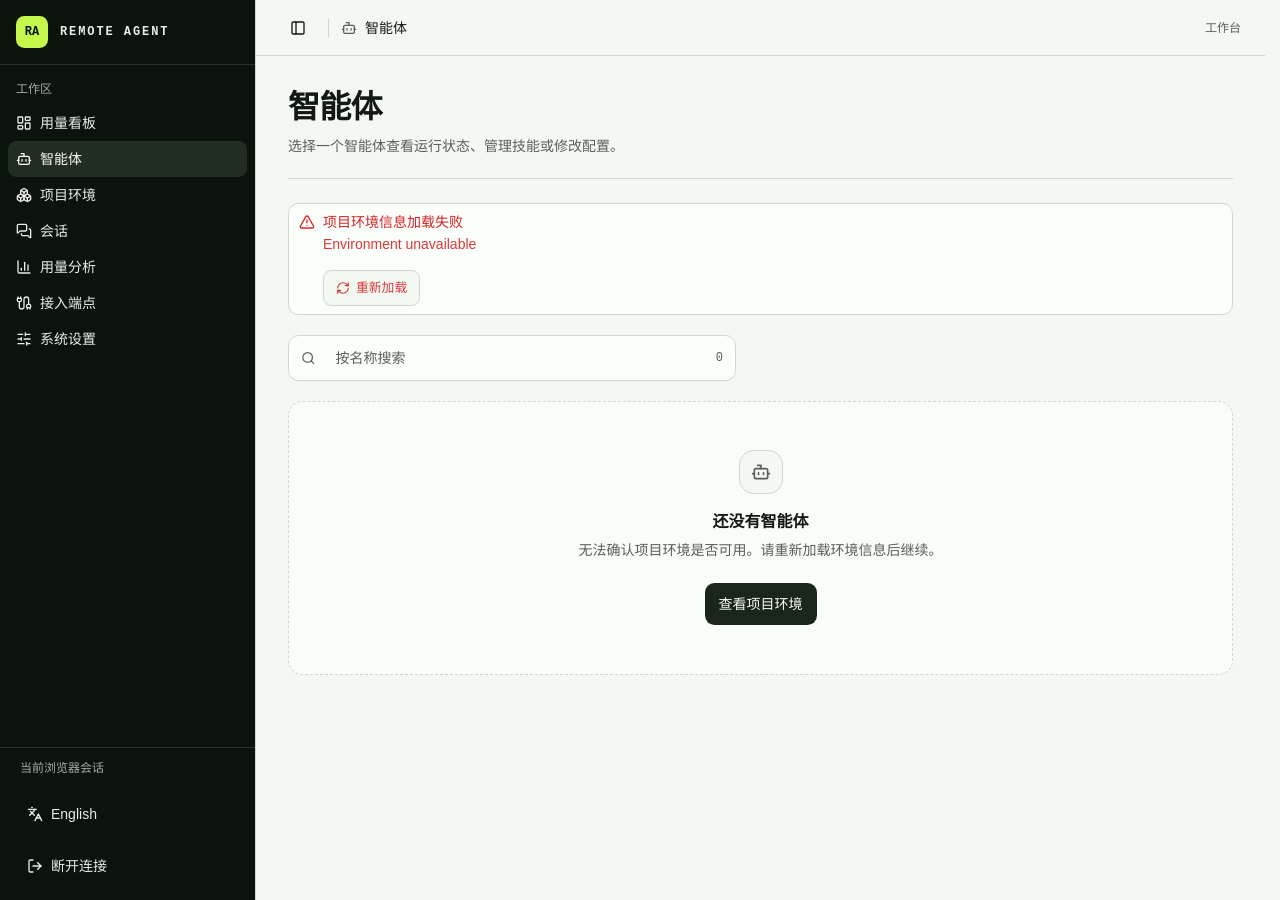
it: does not hide Agents when only their onboarding environment check fails
Expected: the heading "还没有智能体" is shown, [712,510,808,534]
Expected: the message shows "项目环境信息加载失败", [323,214,463,230]
Click the button "重新加载". click: (372, 288)
box: [323,270,420,306]
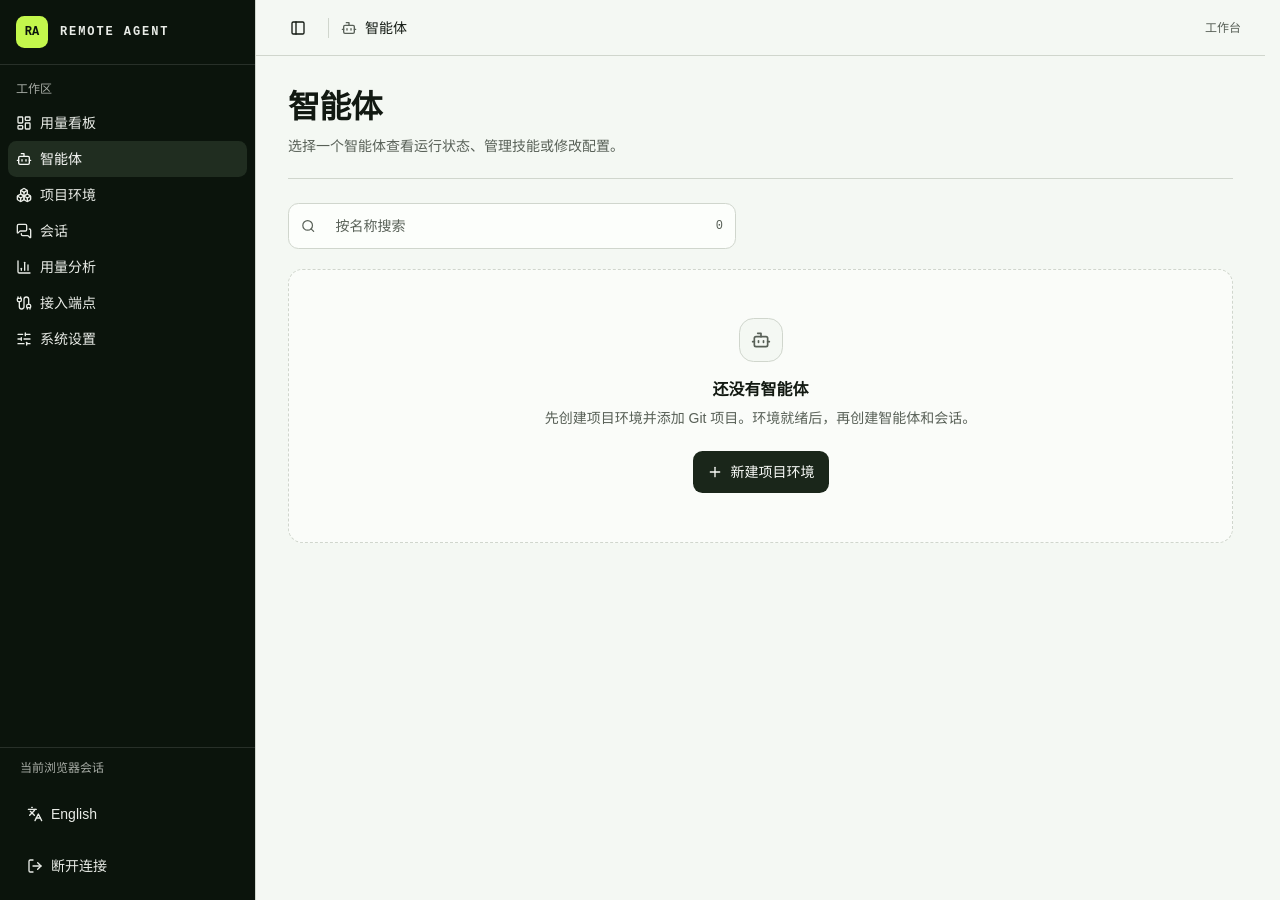
Result: the message "项目环境信息加载失败 Environment unavailable 重新加载" is gone
Result: the link "新建项目环境" is shown at [692,450,830,494]
